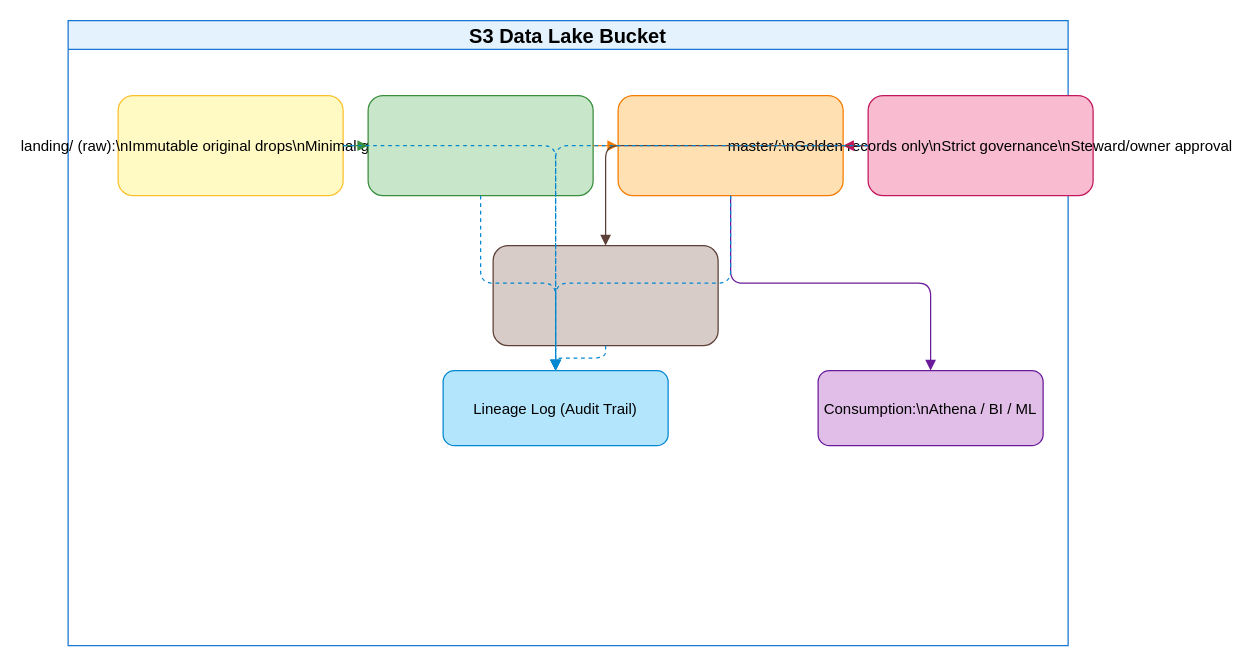
This 1253x666 diagram has some shape labels left out. The centre of each missing label's shape, as x and y in pixels:
archive/:\nCompliance retention\nImmutable (WORM style): pixel 605 295
curated/:\nBusiness rules + enrichment\nMaster data join: pixel 730 145
validated/:\nQuality checks passed\nBasic rule gates: pixel 480 145
